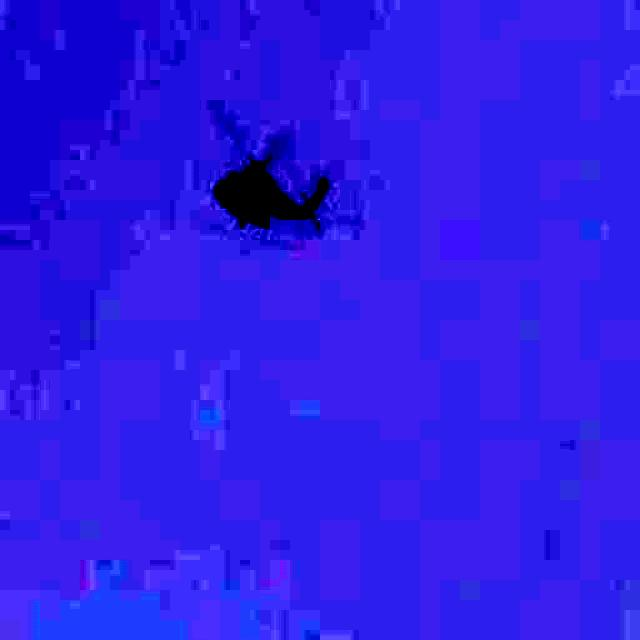drone: (208, 109, 341, 269)
